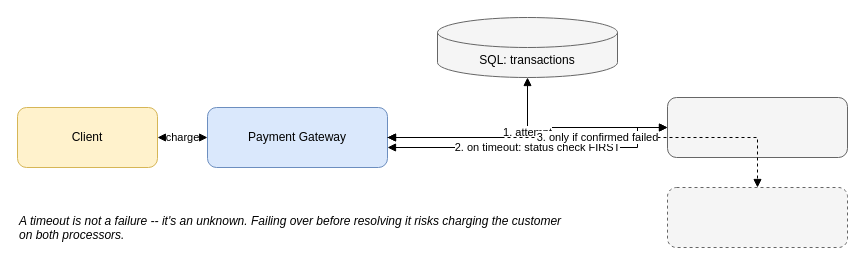
Image size: 865x275. Some labels were removed from this diagram. Each missing label, with the centre of its shape:
Backup Processor: (x=757, y=217)
Primary Processor (e.g. Stripe): (x=757, y=127)
